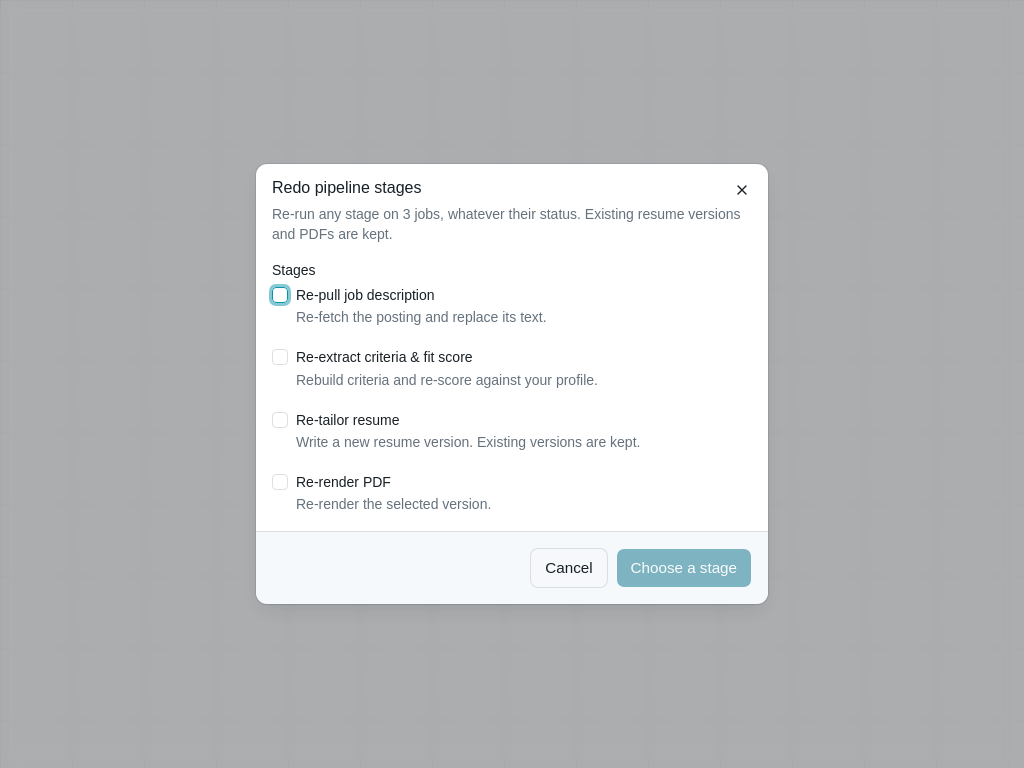
Scenario: RedoDialog › shows the deep-review switch only when re-tailor is ticked
The width and height of the screenshot is (1024, 768).
Expected: the switch labelled "deep review" is not shown
Click the checkbox named "re-tailor resume" next to "Re-tailor resume". click: (280, 420)
box: [272,412,288,428]
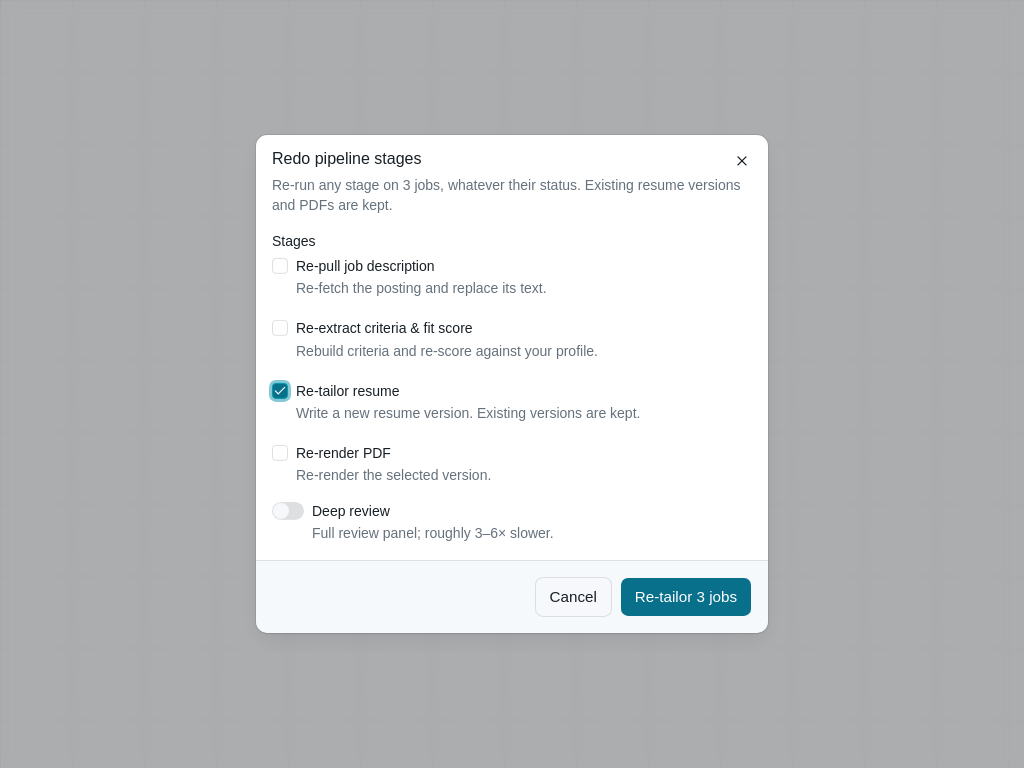
Expected: the switch named "deep review" is shown, [272,502,304,520]
